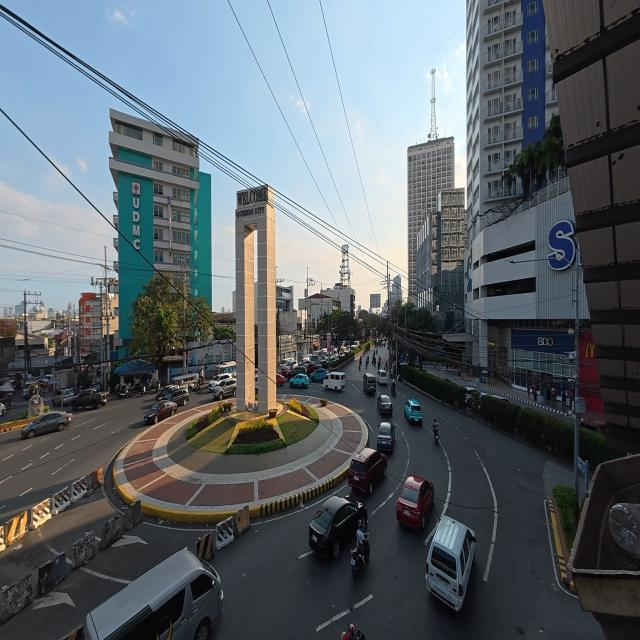Jeepneys: (171, 373, 199, 391)
car: (309, 496, 367, 558), (397, 476, 434, 529), (348, 448, 387, 493), (21, 412, 71, 438), (70, 388, 108, 411), (144, 400, 177, 423), (377, 423, 395, 452), (213, 378, 236, 400), (404, 399, 422, 424), (208, 373, 232, 391), (165, 388, 189, 405), (155, 385, 179, 402), (51, 388, 74, 405), (580, 420, 605, 434), (465, 387, 480, 408), (377, 395, 392, 415), (285, 366, 306, 380), (290, 373, 309, 388), (281, 361, 298, 377), (23, 382, 40, 398), (310, 368, 327, 382), (490, 394, 511, 403), (0, 392, 11, 408), (316, 358, 328, 369), (306, 362, 315, 375), (276, 373, 285, 386), (307, 354, 317, 364), (300, 357, 310, 365), (0, 403, 6, 415), (255, 373, 258, 394)
motorcycle: (351, 535, 370, 576), (130, 381, 146, 396), (117, 386, 129, 398), (148, 381, 161, 392), (433, 427, 439, 443), (391, 388, 396, 397), (359, 362, 361, 370)
vans: (84, 549, 223, 639), (426, 517, 476, 610), (323, 371, 346, 391), (363, 373, 376, 394), (376, 370, 387, 385)
